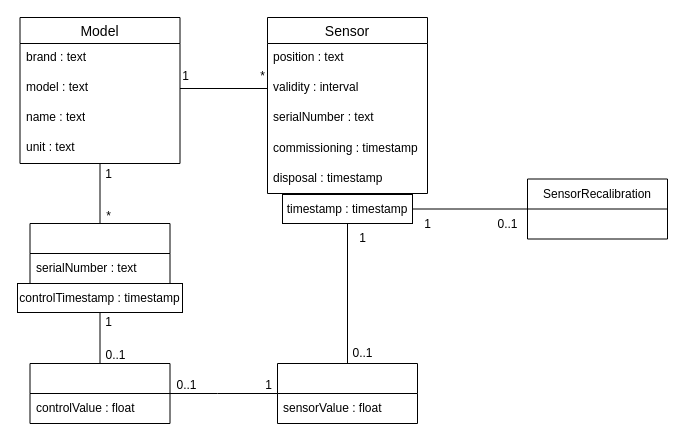
Some shapes in this 685 by 441 pixel diagram are drawn without their labels. Each missing label, with the box of its shape:
Controller: (29, 222, 170, 284)
ControlMeasurement: (29, 362, 170, 424)
SensorMeasurement: (276, 362, 418, 424)
